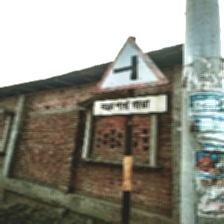Side-road-left: (91, 36, 169, 113)
